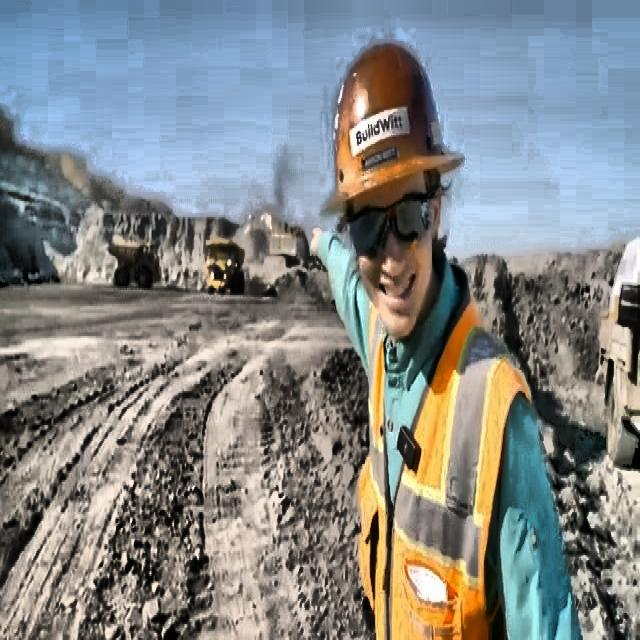safety_helmet: (317, 44, 461, 178)
safety_jacket: (368, 323, 504, 640)
